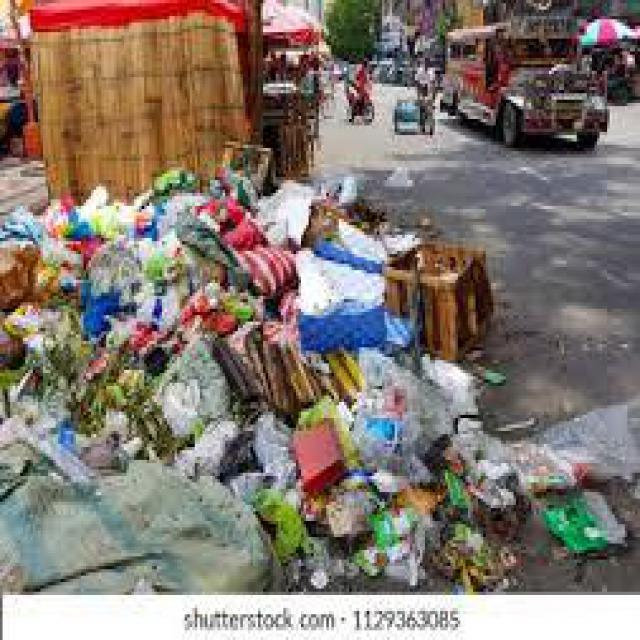garbage: (0, 164, 638, 599)
